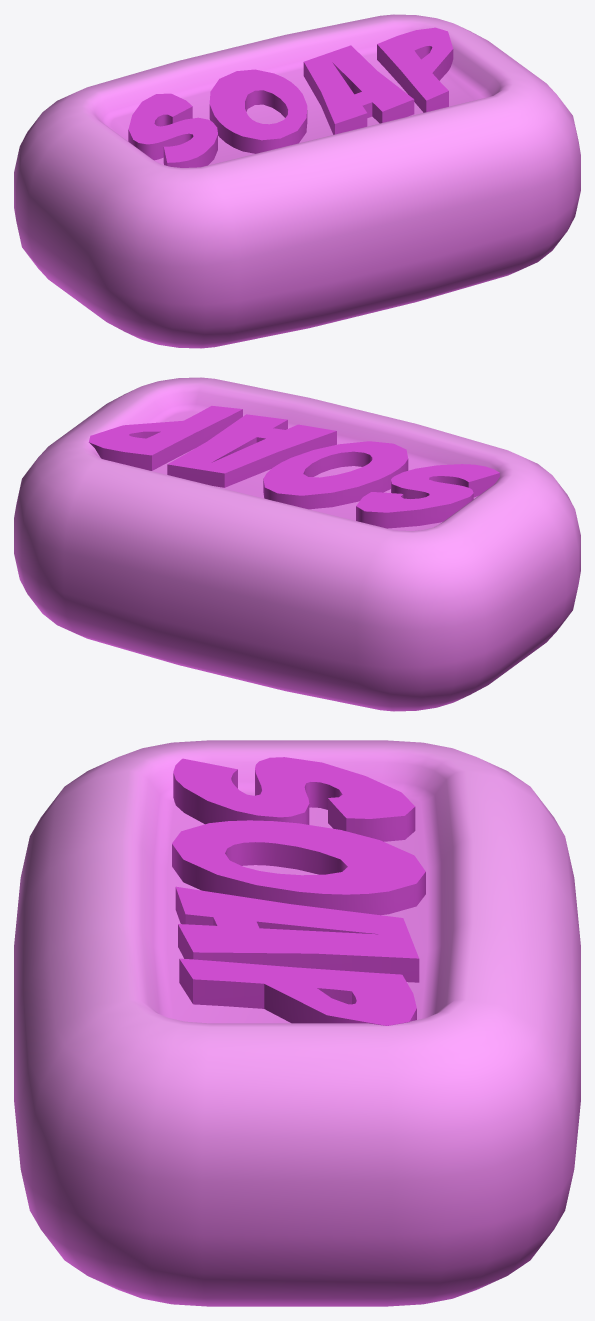
File: Soap.fbx
The picture shows the model from 3 angles, top to bottom: view 1: azimuth 30°, elevation 25°; view 2: azimuth 150°, elevation 25°; view 3: azimuth 270°, elevation 25°; orthographic projection. The views are drawn at different scales.
Parts seen in each view (by area): view 1: Cube; view 2: Cube; view 3: Cube.
Boxes of the visible parts, x1=… form: Cube: x1=14, y1=14, x2=580, y2=348; Cube: x1=14, y1=377, x2=580, y2=711; Cube: x1=14, y1=740, x2=580, y2=1306.
Size of the model in its own units: 33.54 by 12.04 by 21.7.
